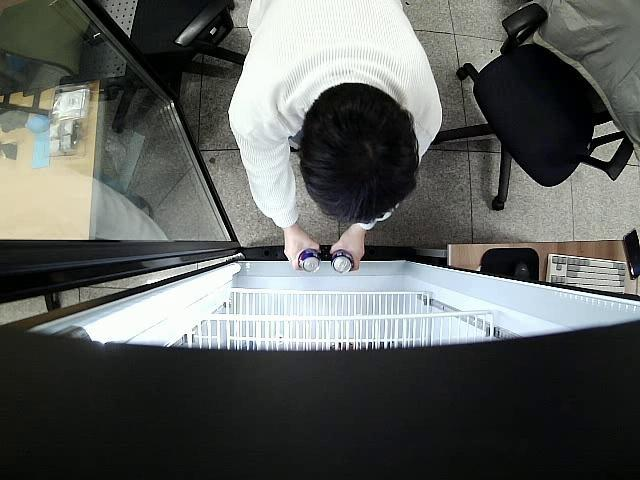14_welchsGrape: (330, 250, 355, 274), (300, 248, 320, 274)
